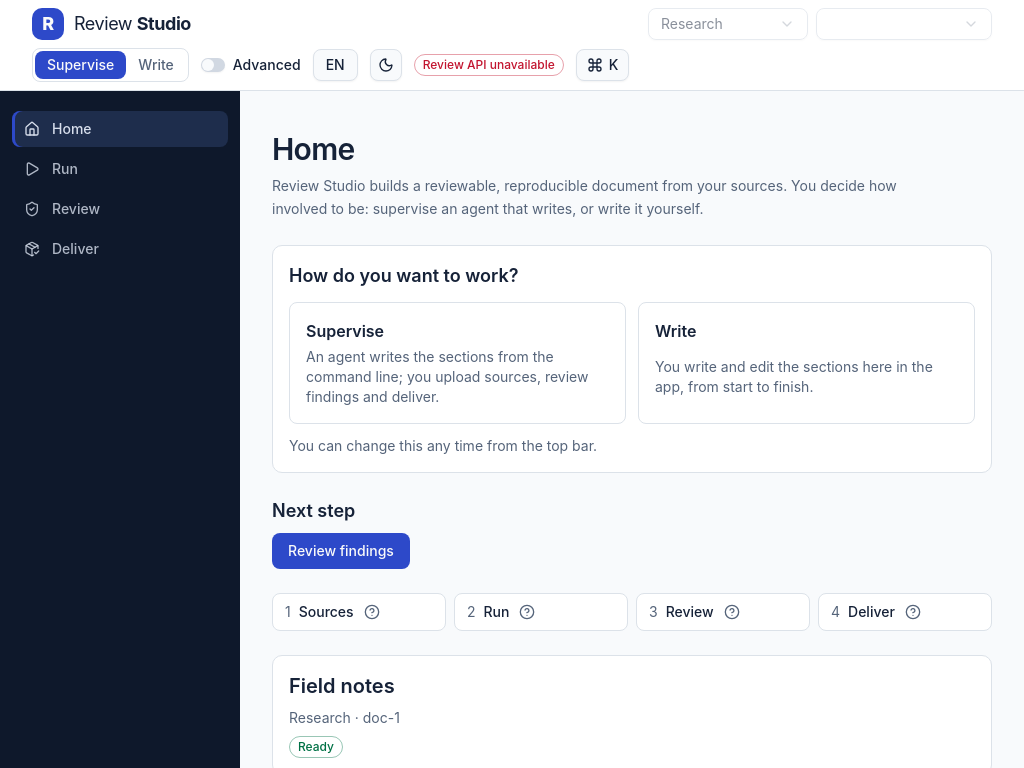
Test: Home purpose, flow and mode chooser › offers a plain-language explanation of finding
What coordinates should you click on to do the following:
click the button named "What is finding?"
I would click on:
 (732, 612)
Its box is [722,602,742,622].
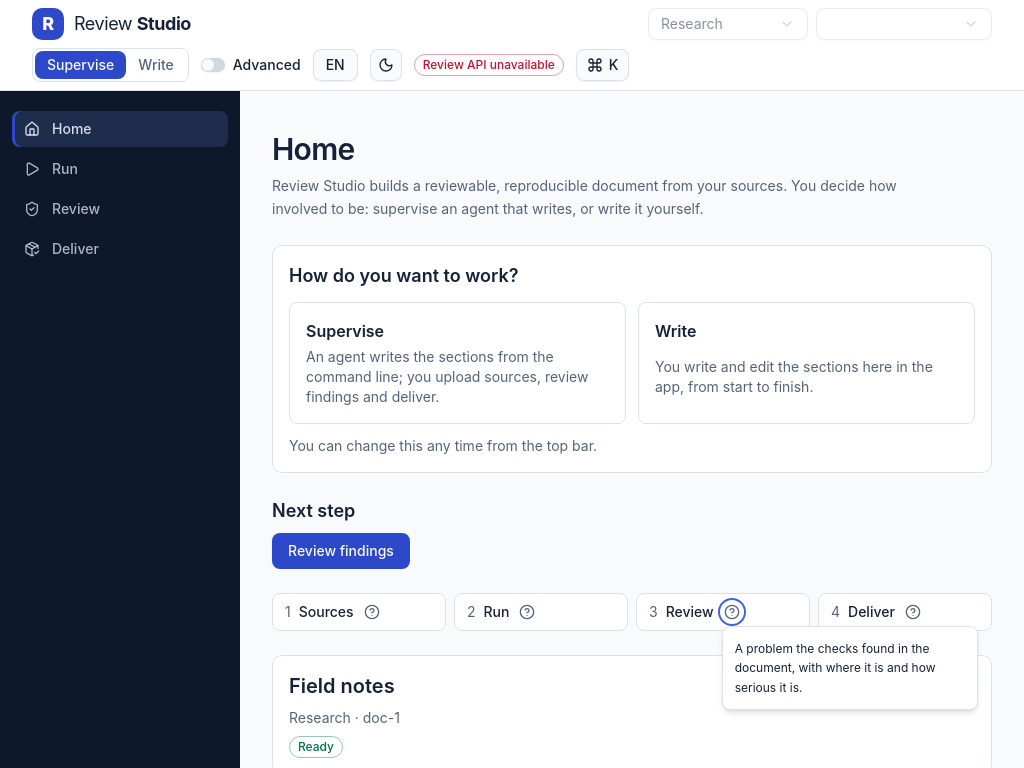
Expected: the text "problem" is shown, [735,640,936,694]
